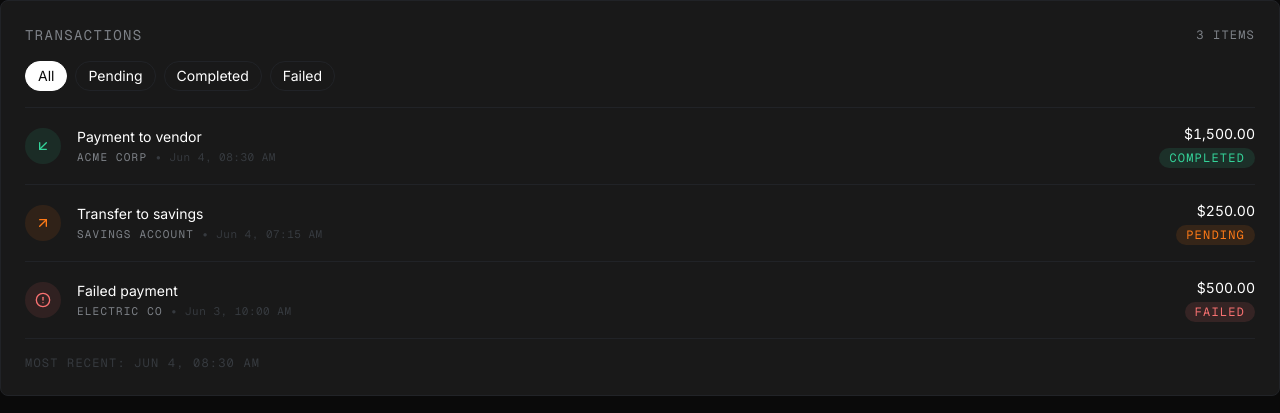
TransactionList › returns to all transactions when All filter clicked
Expected: the text "Payment to vendor" is shown, [77,128,202,145]
What coordinates should you click on to do the following:
click the button "Pending"
I would click on:
 (116, 76)
Its box is [76,61,156,91].
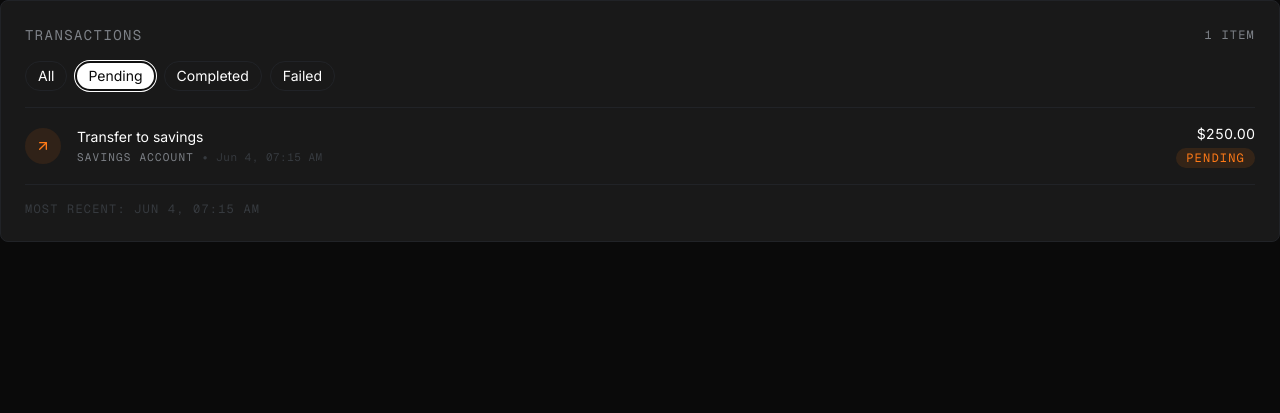
What coordinates should you click on to do the following:
click the button "All"
I would click on:
 (46, 76)
Its box is [25,61,68,91].
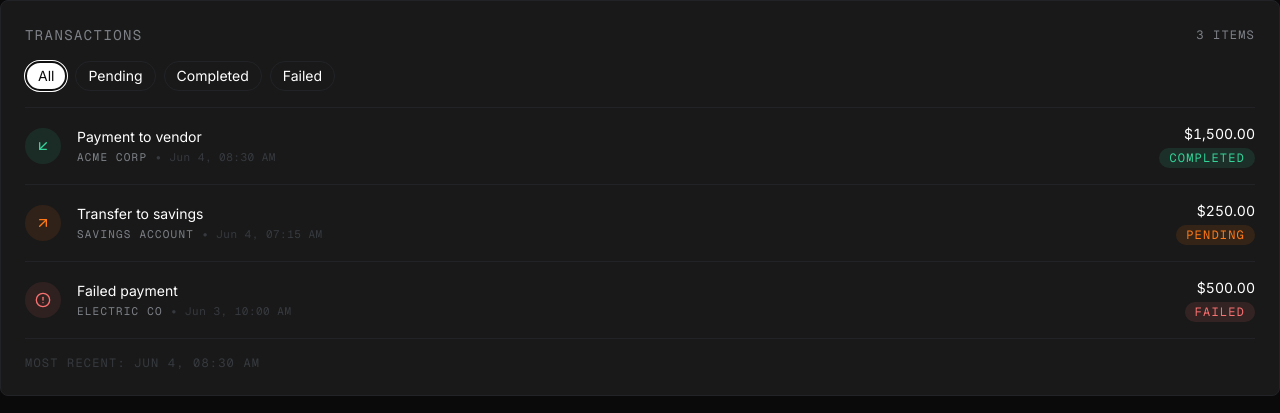
Expected: the text "Transfer to savings" is shown, [77,205,204,222]
Expected: the text "Payment to vendor" is shown, [77,128,202,145]
Expected: the text "Failed payment" is shown, [77,282,178,299]
